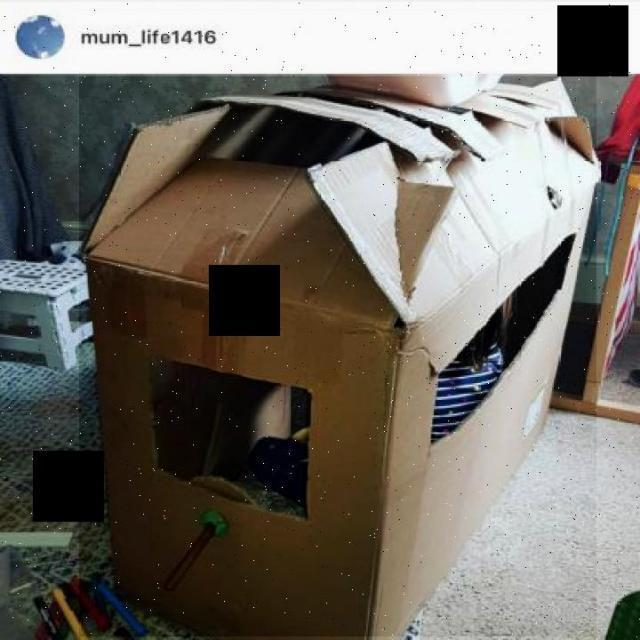box: (79, 77, 597, 637)
